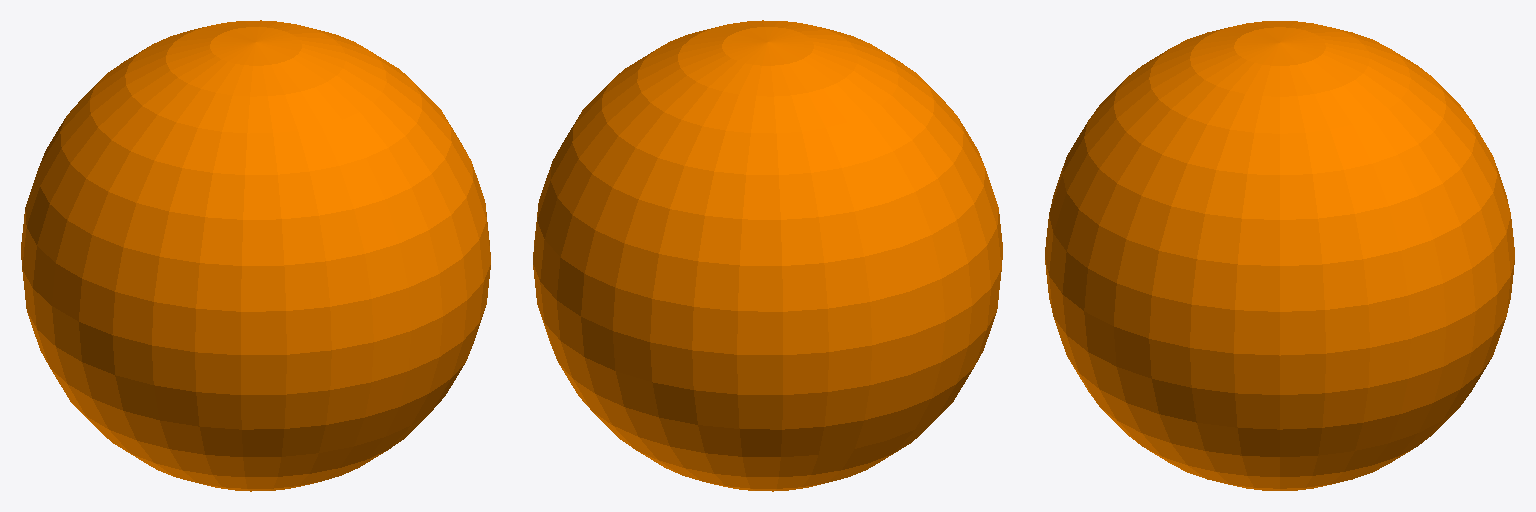
The robot description file, URDF, robot "simple_ball":
<robot name="simple_ball">
  <link name="ball">
    <inertial>
      <mass value="1.0" />
      <origin xyz="0 0 0" /> 
      <inertia  ixx="0.00016" ixy="0.0"  ixz="0.0"  iyy="0.00016"  iyz="0.0"  izz="0.00016" />
    </inertial>
    <visual>
      <origin xyz="0 0 0" rpy="0 0 0" />
      <geometry>
        <sphere radius="0.02"/>
      </geometry>
      <material name="Orange">
        <color rgba="1.0 0.55 0.0 1.0"/>
      </material>
    </visual>
    <collision>
      <origin xyz="0 0 0" rpy="0 0 0" />
      <geometry>
        <sphere radius="0.02"/>
      </geometry>
    </collision>
  </link>
</robot>

--- Facts derived from the render (not from the file) ---
The picture shows the robot from 3 angles, left to right: view 1: azimuth 30°, elevation 25°; view 2: azimuth 150°, elevation 25°; view 3: azimuth 270°, elevation 25°; orthographic projection.
Robot: simple_ball — 1 links, 0 joints (none); root link ball; default pose: all joints at 0.
Links seen in each view (by area): view 1: ball; view 2: ball; view 3: ball.
Boxes of the visible links, <box> form: ball: <box>21,20,490,491</box>; ball: <box>533,20,1002,491</box>; ball: <box>1045,21,1514,490</box>.
Size in the robot's own frame: 0.04 by 0.04 by 0.04 metres.
Geometry: primitives only (box / cylinder / sphere), no mesh files.